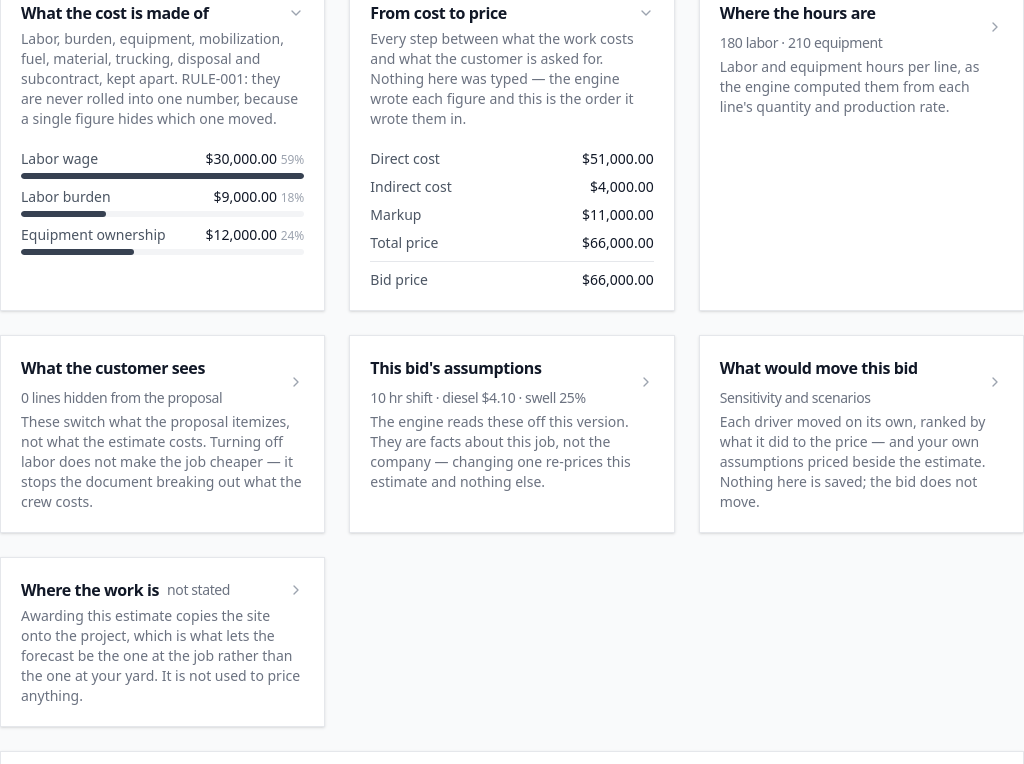
the estimate workspace › this bid's assumptions › shows the numbers the engine actually reads off the version
(page scrolled)
Click the button "This bid's assumptions".
click(512, 382)  # box [370,356,654,408]
(page scrolled)
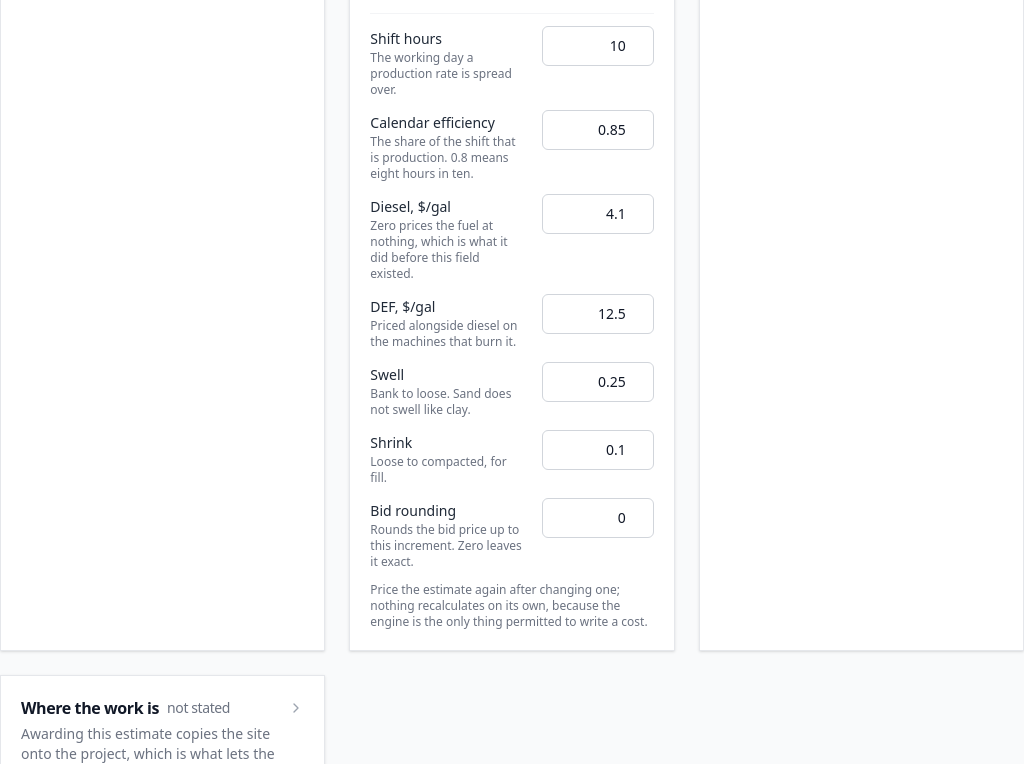
expect the number field labelled "Diesel, $/gal" holds "4.1": met, box [542,194,654,234]
expect the number field labelled "Swell" holds "0.25": met, box [542,362,654,402]
